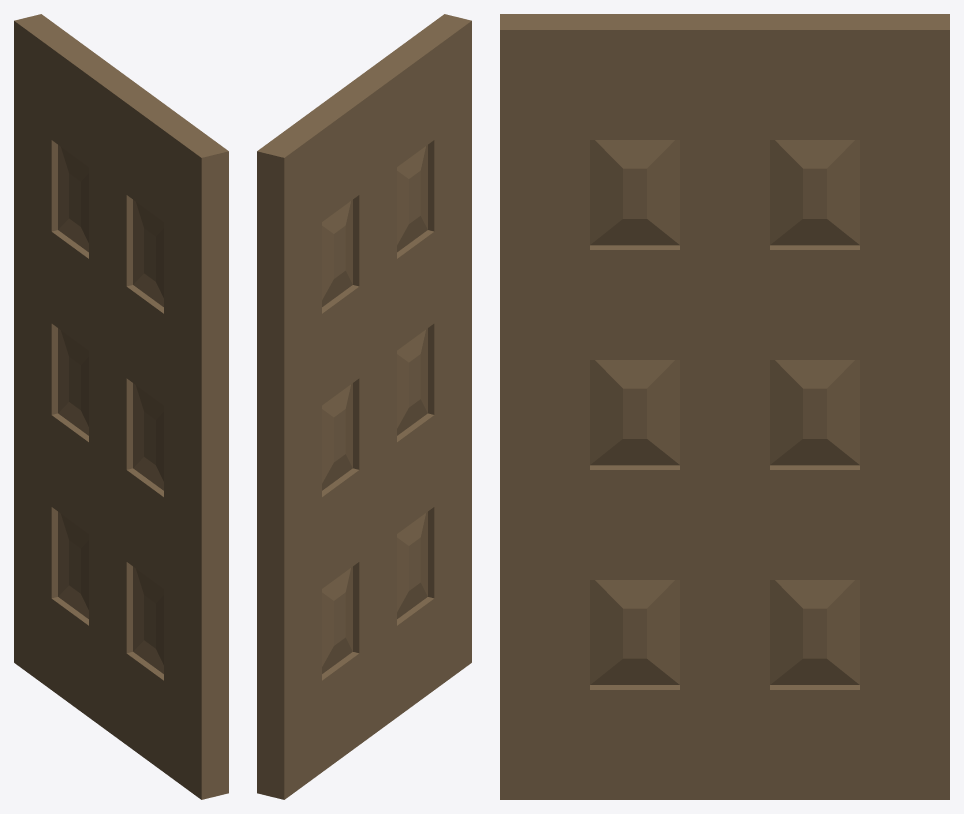
Rendered from Door.fbx.
3 views of the same model, side by side, from view 1: azimuth 30°, elevation 25°; view 2: azimuth 150°, elevation 25°; view 3: azimuth 270°, elevation 25° (orthographic). The views are drawn at different scales.
Parts seen in each view (by area): view 1: Door; view 2: Door; view 3: Door.
Boxes of the visible parts, x1,y1,x2,y2 form: Door: (14,14,228,799); Door: (257,14,471,799); Door: (500,14,949,799).
Size of the model in its own units: 8.94 by 200 by 106.
